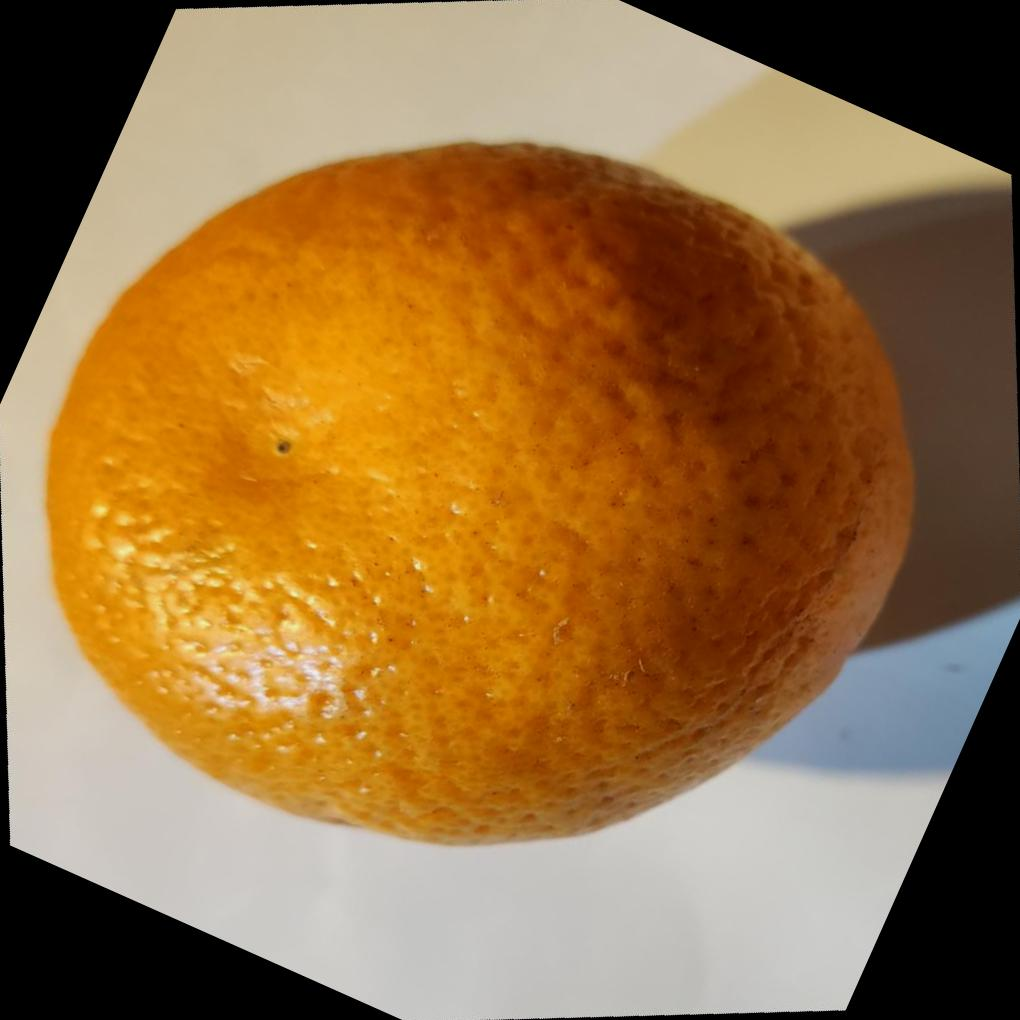FreshGuava: (40, 138, 916, 847)
